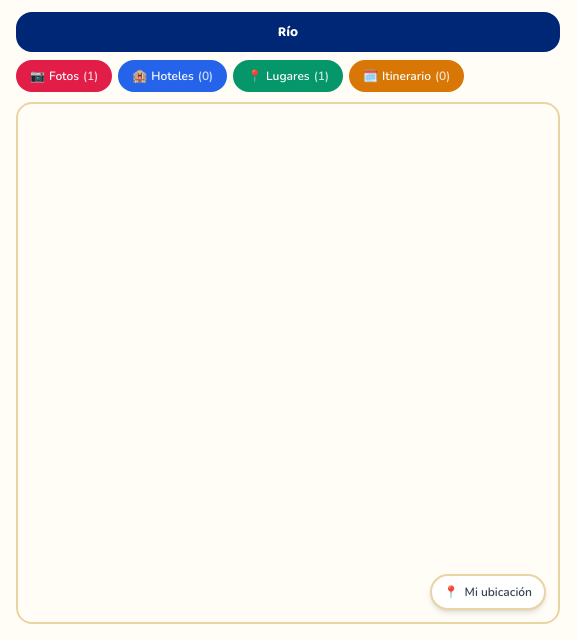
Test case: MapaModule › apagar una capa → su conteo baja a 0 y aria-pressed false
Click the button "📷 Fotos (1)" at (64, 76), box [16,60,112,92]
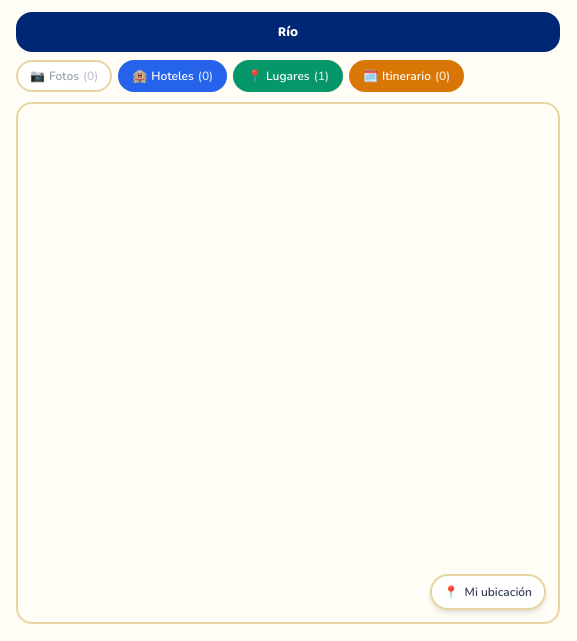
Check: the button "📷 Fotos (0)" is shown, box [16,60,112,92]
